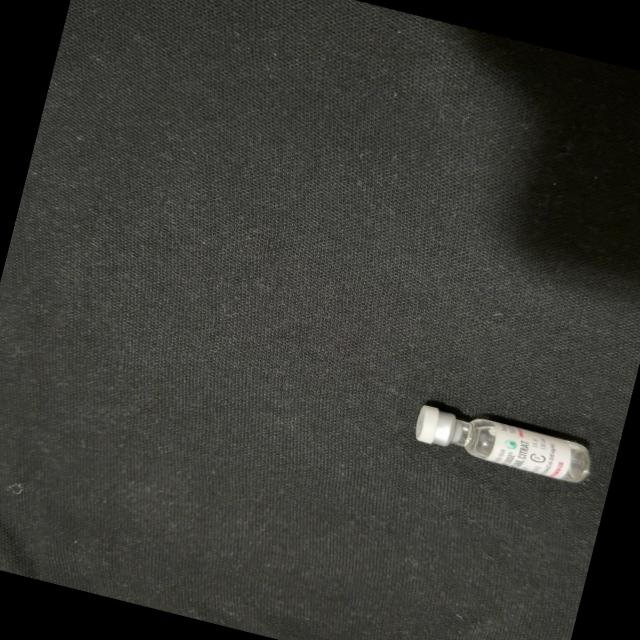fentanl_citrat: (413, 402, 592, 483)
